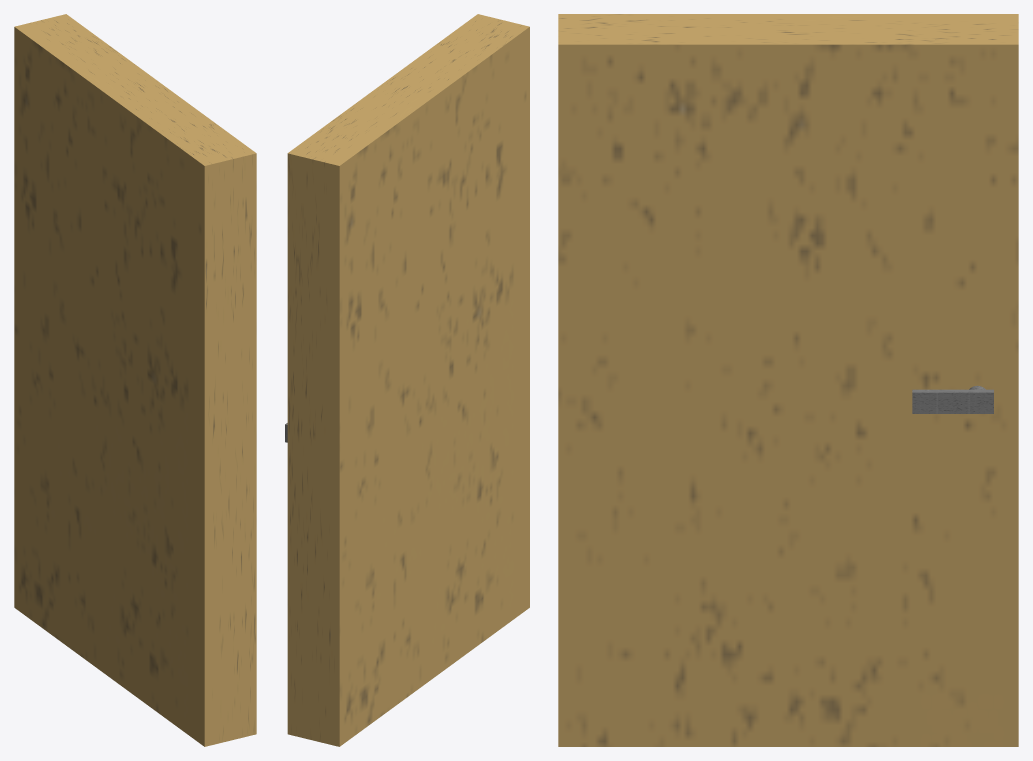
File: TexturedDoor.fbx
The picture shows the model from 3 angles, left to right: view 1: azimuth 30°, elevation 25°; view 2: azimuth 150°, elevation 25°; view 3: azimuth 270°, elevation 25°; orthographic projection. The views are drawn at different scales.
Visible parts, largest first — view 1: pCube1; view 2: pCube1; view 3: pCube1, pCube2.
Part boxes in pixels (bbox=[...]): pCube1: bbox=[14, 14, 256, 746]; pCube1: bbox=[287, 14, 529, 746]; pCube1: bbox=[558, 14, 1018, 746]; pCube2: bbox=[912, 389, 993, 413].
Size of the model in its own units: 2.28 by 19.58 by 11.63.
Materials: 2 (2 with a texture image).
